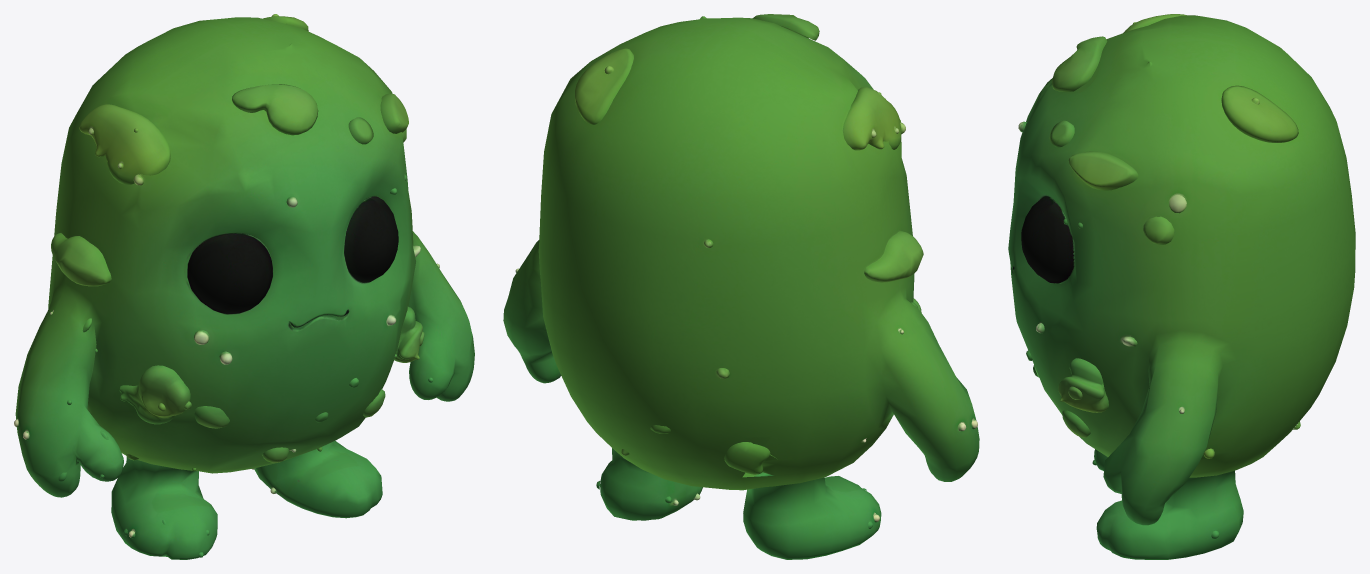
File: tripo_convert_be7641c6-967f-4f18-b8fe-cb299fa6129a.fbx
3 views of the same model, side by side, from view 1: azimuth 30°, elevation 25°; view 2: azimuth 150°, elevation 25°; view 3: azimuth 270°, elevation 25° (orthographic). The views are drawn at different scales.
Visible parts, largest first — view 1: tripo_node_be7641c6; view 2: tripo_node_be7641c6; view 3: tripo_node_be7641c6.
Part boxes in pixels (x1,y1,x2,y2): tripo_node_be7641c6: (14, 14, 474, 559); tripo_node_be7641c6: (503, 14, 979, 559); tripo_node_be7641c6: (1008, 14, 1355, 559).
Size of the model in its own units: 0.9839 by 0.9995 by 0.6685.
Materials: 1 (1 with a texture image).
